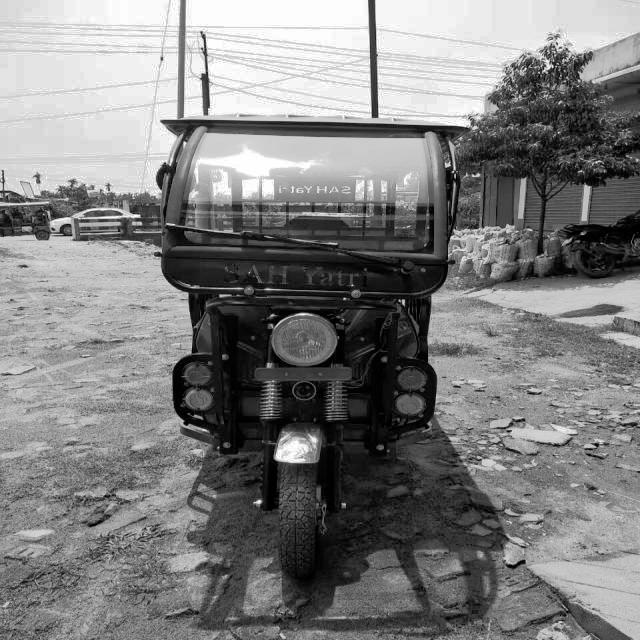Toto: (142, 98, 484, 586)
